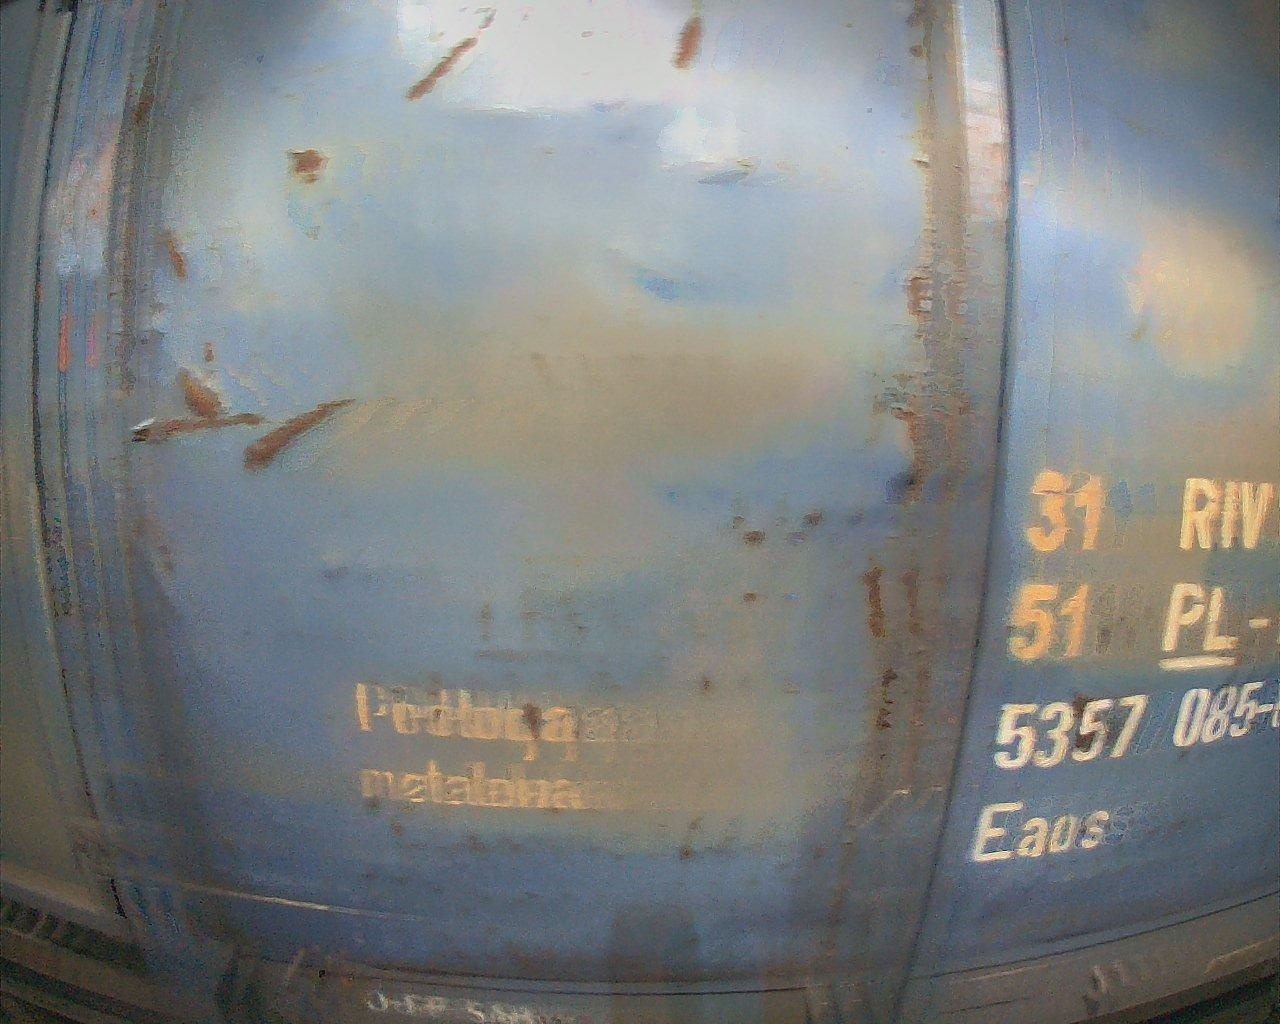UIC: (968, 467, 1280, 887)
